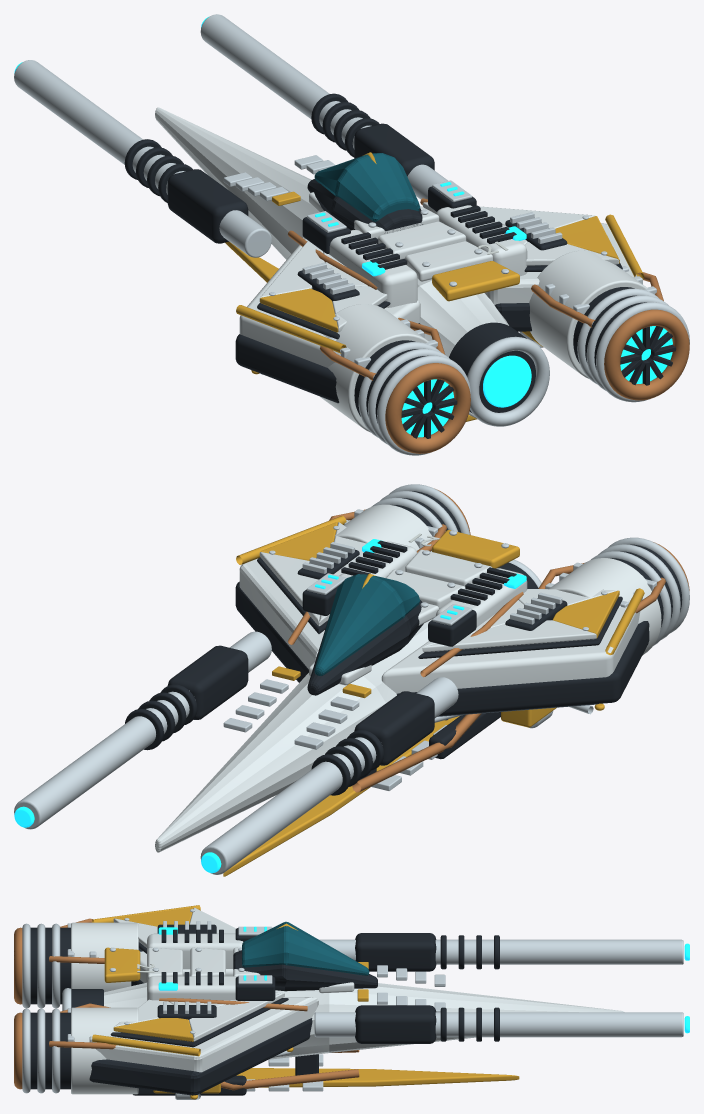
3 views of the same model, one above another, from view 1: azimuth 30°, elevation 25°; view 2: azimuth 150°, elevation 25°; view 3: azimuth 270°, elevation 25° (orthographic). The views are drawn at different scales.
Parts seen in each view (by area): view 1: SolidHull_21; view 2: SolidHull_21; view 3: SolidHull_21.
Part boxes in pixels (<box>): SolidHull_21: <box>14,14,689,455</box>; SolidHull_21: <box>14,484,689,876</box>; SolidHull_21: <box>14,905,689,1099</box>.
Bounding box in the file's own units: 2.38 × 1.17 × 4.58.
